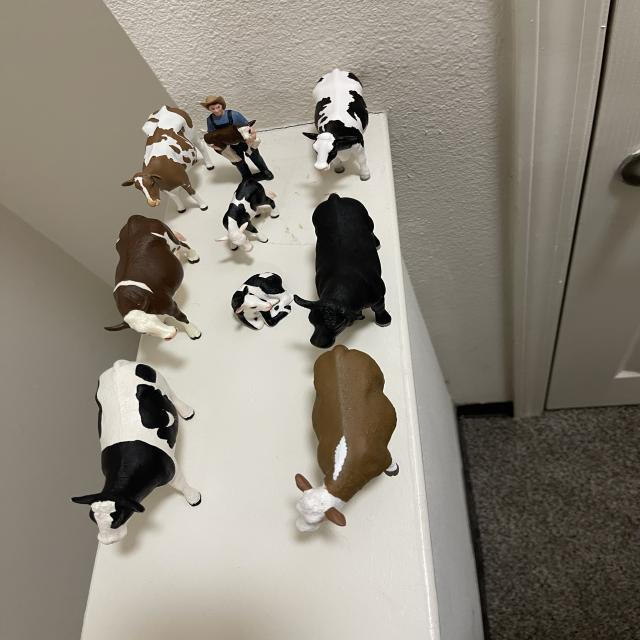cow: (61, 354, 204, 547), (293, 344, 399, 532), (279, 188, 394, 352), (103, 212, 217, 345), (115, 102, 208, 219), (212, 174, 288, 262), (312, 68, 370, 181), (223, 262, 303, 341), (202, 121, 255, 153)
person: (200, 90, 249, 132)
